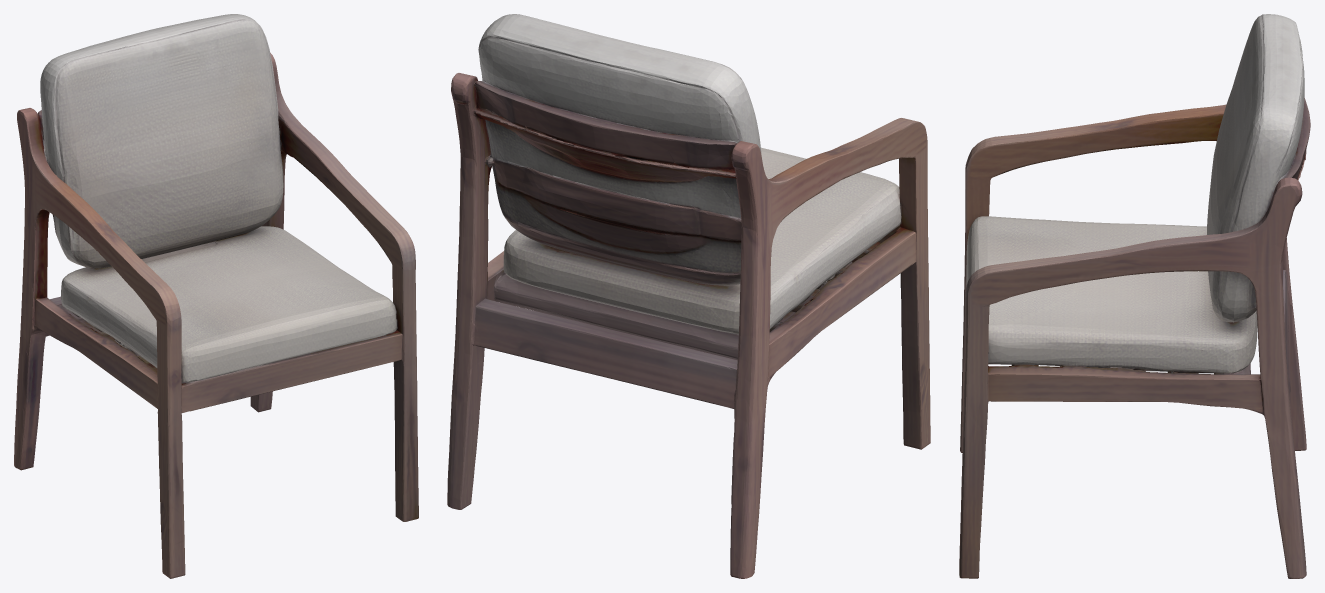
Rendered from SILLA Shantomas.glb.
The picture shows the model from 3 angles, left to right: view 1: azimuth 30°, elevation 25°; view 2: azimuth 150°, elevation 25°; view 3: azimuth 270°, elevation 25°; orthographic projection. The views are drawn at different scales.
Parts seen in each view (by area): view 1: world; view 2: world; view 3: world.
Part boxes in pixels (box(x1,y1,x2,y2)): world: box(14, 14, 418, 578); world: box(447, 14, 930, 578); world: box(959, 14, 1310, 578).
Bounding box in the file's own units: 0.55 × 0.85 × 0.6.
Materials: 1 (1 with a texture image).
